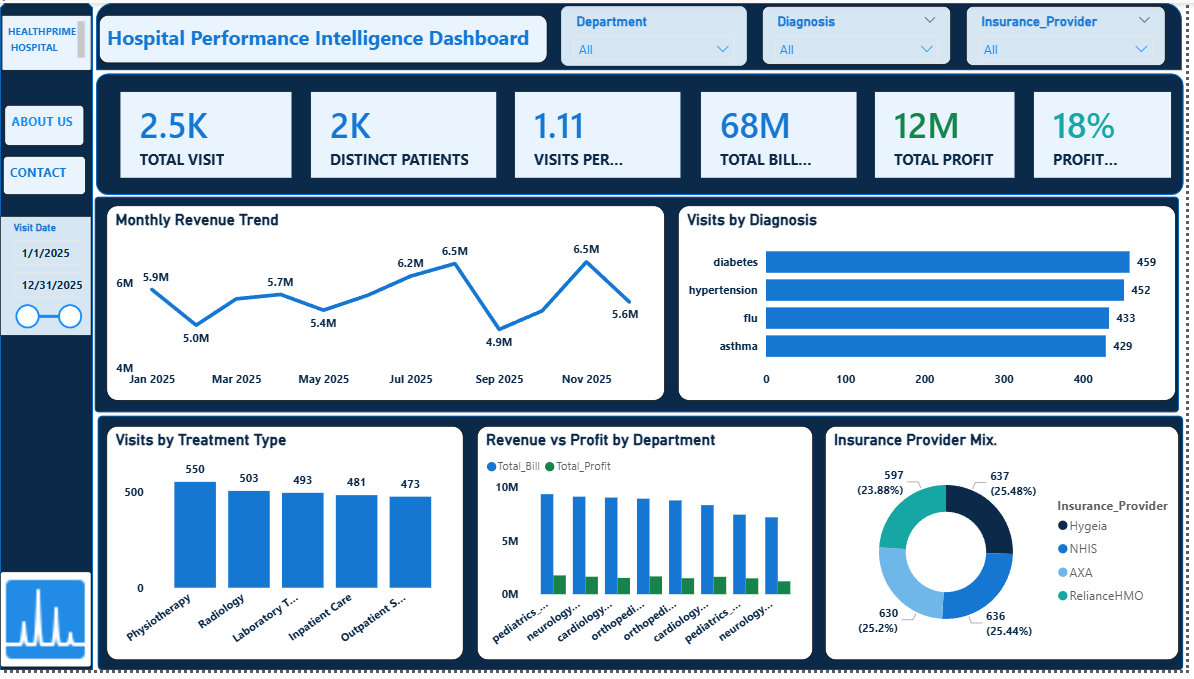

The page's visual inventory and layout, read from the dashboard file:
{"tool":"powerbi","page":{"name":"Page 1","canvas":[1280,720],"ordinal":0},"visuals":[{"type":"shape","box":[103.6,76.1,1173.9,131.2],"z":0},{"type":"cardVisual","fields":{"Data":["Healthprime_Clean.Total_Bill"]},"box":[750.7,90.7,178.1,103.6],"z":1000},{"type":"cardVisual","fields":{"Data":["Healthprime_Clean.Total_Profit"]},"box":[938.8,90.7,161.9,103.6],"z":2000},{"type":"cardVisual","fields":{"Data":["Healthprime_Clean.Profit_Margin"]},"box":[1110.8,90.7,158.7,103.6],"z":3000},{"type":"cardVisual","fields":{"Data":["CountNonNull(Healthprime_Clean.Patient_ID)"]},"box":[124.7,90.7,195.9,103.6],"z":4000},{"type":"cardVisual","fields":{"Data":["Healthprime_Clean.Distinct_Patients"]},"box":[330.6,90.7,210.5,103.6],"z":5000},{"type":"cardVisual","fields":{"Data":["Healthprime_Clean.Visits_Per_Patient"]},"box":[551.2,90.7,189.4,103.6],"z":6000},{"type":"shape","box":[102,208.9,1170.7,233.2],"z":7000},{"type":"shape","box":[0,0,100.4,720.6],"z":8000},{"type":"shape","box":[103.6,0,1172.3,72.9],"z":9000},{"type":"shape","box":[105.2,445.3,1172.3,275.3],"z":10000},{"type":"clusteredColumnChart","title":"Visits by Treatment Type","fields":{"Category":["Healthprime_Clean.Treatment_Type"],"Y":["CountNonNull(Healthprime_Clean.Patient_ID)"]},"box":[115,456.6,385.4,252.6],"z":11000},{"type":"lineChart","title":"Monthly Revenue Trend","fields":{"Y":["Healthprime_Clean.Total_Bill"],"Category":["Healthprime_Clean.Visit_Date.Variation.Date Hierarchy.Year","Healthprime_Clean.Visit_Date.Variation.Date Hierarchy.Month"]},"box":[115,218.6,602.4,210.5],"z":12000},{"type":"clusteredBarChart","title":"Visits by Diagnosis","fields":{"Category":["Healthprime_Clean.Diagnosis"],"Y":["CountNonNull(Healthprime_Clean.Patient_ID)"]},"box":[731.9,218.6,537.6,210.5],"z":13000},{"type":"donutChart","title":"Insurance Provider Mix.","fields":{"Category":["Healthprime_Clean.Insurance_Provider"],"Y":["CountNonNull(Healthprime_Clean.Patient_ID)"]},"box":[890.6,456.6,382.1,252.6],"z":14000},{"type":"clusteredColumnChart","title":"Revenue vs Profit by Department","fields":{"Category":["Healthprime_Clean.Dept_Status"],"Y":["Healthprime_Clean.Total_Bill","Healthprime_Clean.Total_Profit"]},"box":[514.9,456.6,362.7,252.6],"z":15000},{"type":"textbox","box":[1.6,13,97.2,59.9],"z":16000},{"type":"textbox","box":[106.9,13,484.1,51.8],"z":17000},{"type":"slicer","fields":{"Values":["Healthprime_Clean.Visit_Date"]},"box":[0,229.9,98.8,129.5],"z":18000},{"type":"slicer","fields":{"Values":["Healthprime_Clean.Department"]},"box":[605.6,3.2,200.8,64.8],"z":19000},{"type":"slicer","fields":{"Values":["Healthprime_Clean.Diagnosis"]},"box":[822.6,3.2,204,63.1],"z":20000},{"type":"slicer","fields":{"Values":["Healthprime_Clean.Insurance_Provider"]},"box":[1042.8,3.2,215.4,64.8],"z":21000},{"type":"image","box":[0,613.7,98.8,103.6],"z":22000},{"type":"textbox","box":[4.9,110.1,85.8,43.7],"z":23000},{"type":"textbox","box":[3.2,165.2,89.1,42.1],"z":24000}]}

Visuals, with their boxes in screenshot pixels (x1, y1, x2, y2), scaled from the page's 1280x720 canvas onto the 1194x679 screenshot:
shape: 97, 72, 1192, 195
cardVisual - Healthprime_Clean.Total_Bill: 700, 86, 866, 183
cardVisual - Healthprime_Clean.Total_Profit: 876, 86, 1027, 183
cardVisual - Healthprime_Clean.Profit_Margin: 1036, 86, 1184, 183
cardVisual - CountNonNull(Healthprime_Clean.Patient_ID): 116, 86, 299, 183
cardVisual - Healthprime_Clean.Distinct_Patients: 308, 86, 505, 183
cardVisual - Healthprime_Clean.Visits_Per_Patient: 514, 86, 691, 183
shape: 95, 197, 1187, 417
shape: 0, 0, 94, 678
shape: 97, 0, 1190, 69
shape: 98, 420, 1192, 678
"Visits by Treatment Type" clusteredColumnChart: 107, 431, 467, 669
"Monthly Revenue Trend" lineChart: 107, 206, 669, 405
"Visits by Diagnosis" clusteredBarChart: 683, 206, 1184, 405
"Insurance Provider Mix." donutChart: 831, 431, 1187, 669
"Revenue vs Profit by Department" clusteredColumnChart: 480, 431, 819, 669
textbox: 1, 12, 92, 69
textbox: 100, 12, 551, 61
slicer - Healthprime_Clean.Visit_Date: 0, 217, 92, 339
slicer - Healthprime_Clean.Department: 565, 3, 752, 64
slicer - Healthprime_Clean.Diagnosis: 767, 3, 958, 63
slicer - Healthprime_Clean.Insurance_Provider: 973, 3, 1174, 64
image: 0, 579, 92, 676
textbox: 5, 104, 85, 145
textbox: 3, 156, 86, 195
